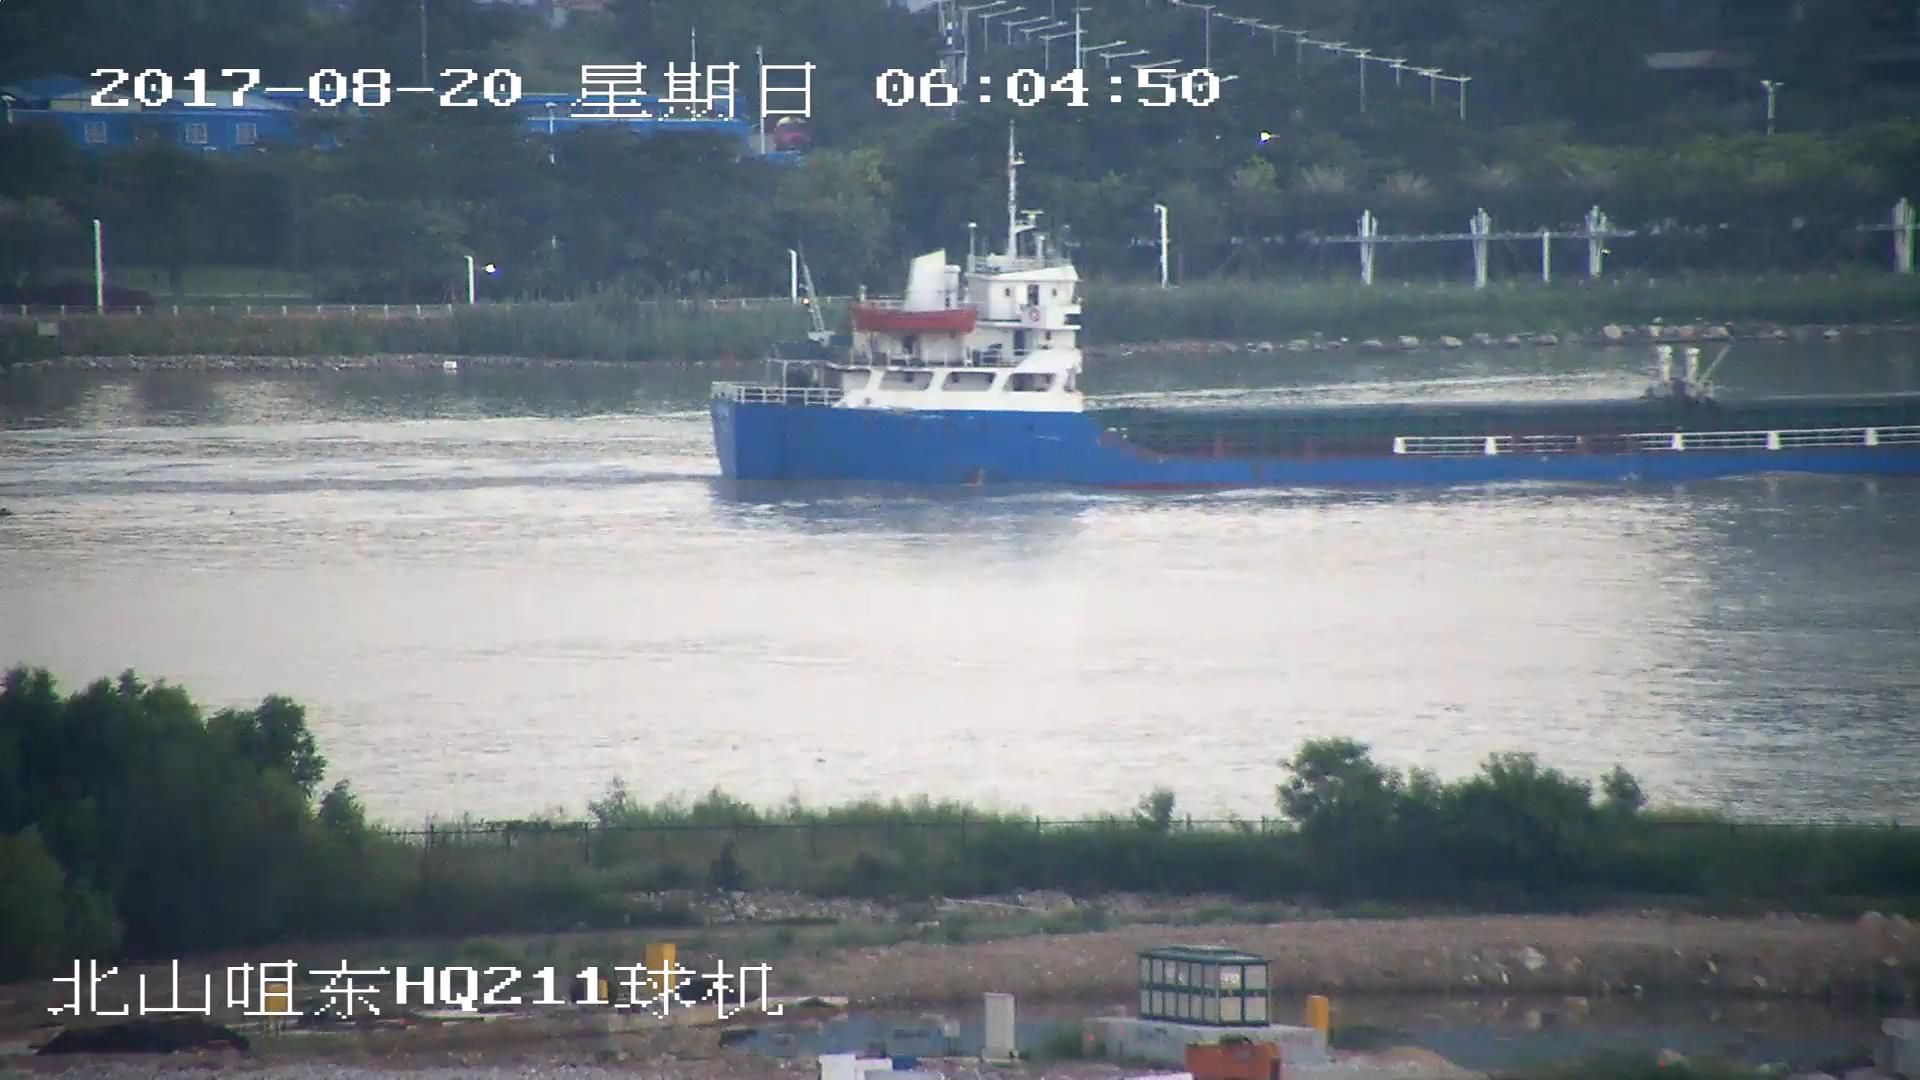Ship: (708, 211, 1920, 493)
